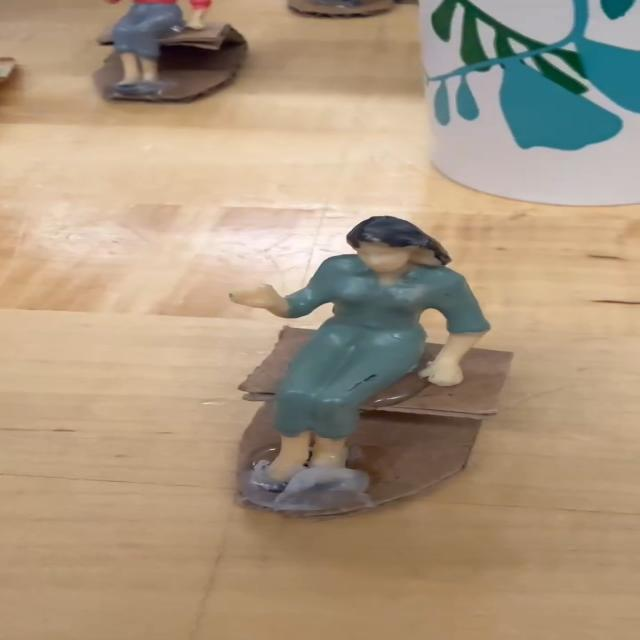Authorized: (200, 202, 513, 521)
